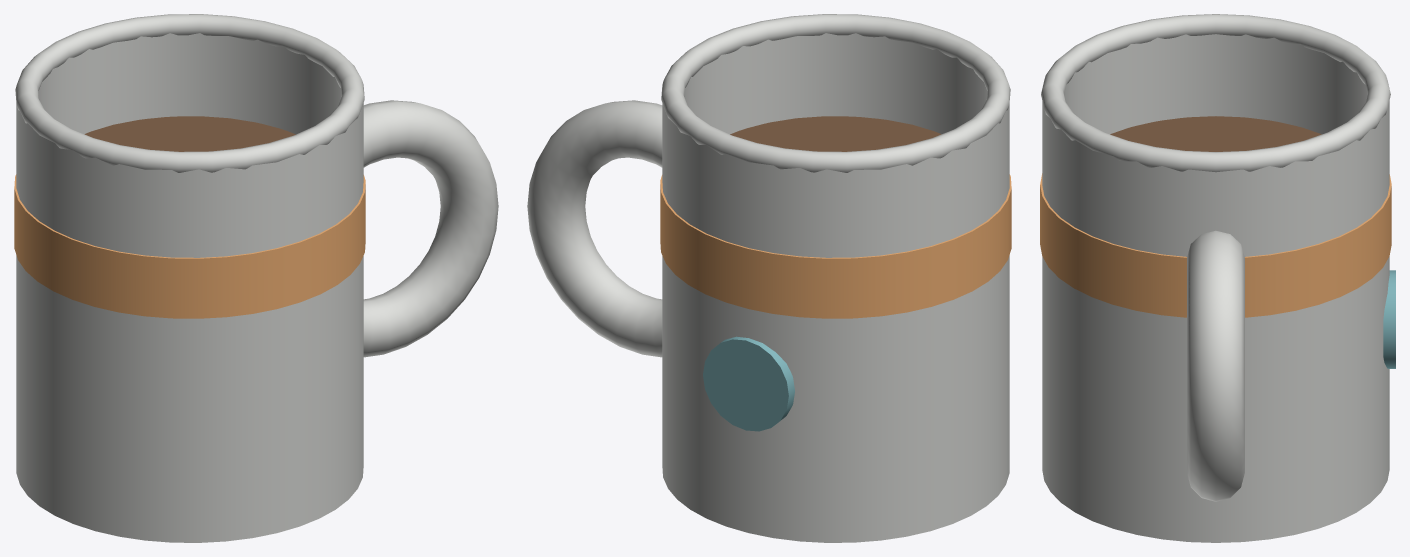
Rendered from crew_mug.glb.
3 renders of one model, left to right at view 1: azimuth 30°, elevation 25°; view 2: azimuth 150°, elevation 25°; view 3: azimuth 270°, elevation 25°, orthographic.
Visible parts, largest first — view 1: mug_body_white_painted, mug_inside_white_painted, mug_band_orange, mug_handle_white_painted, mug_rim_white_painted, coffee_coffee, mug_base_white_painted; view 2: mug_body_white_painted, mug_inside_white_painted, mug_band_orange, mug_handle_white_painted, mug_rim_white_painted, mug_patch_teal, coffee_coffee, mug_base_white_painted; view 3: mug_body_white_painted, mug_inside_white_painted, mug_band_orange, mug_rim_white_painted, mug_handle_white_painted, coffee_coffee, mug_base_white_painted, mug_patch_teal.
Boxes of the visible parts, <box> form: mug_body_white_painted: <box>16,104,363,542</box>; mug_inside_white_painted: <box>38,33,341,134</box>; mug_band_orange: <box>14,174,365,318</box>; mug_handle_white_painted: <box>363,100,498,357</box>; mug_rim_white_painted: <box>15,14,364,172</box>; coffee_coffee: <box>84,116,295,151</box>; mug_base_white_painted: <box>19,453,363,535</box>; mug_body_white_painted: <box>662,104,1009,542</box>; mug_inside_white_painted: <box>684,33,987,134</box>; mug_band_orange: <box>660,174,1011,318</box>; mug_handle_white_painted: <box>527,100,662,357</box>; mug_rim_white_painted: <box>661,14,1010,172</box>; mug_patch_teal: <box>703,336,794,431</box>; coffee_coffee: <box>730,116,941,151</box>; mug_base_white_painted: <box>662,453,1007,535</box>; mug_body_white_painted: <box>1042,101,1389,542</box>; mug_inside_white_painted: <box>1064,34,1367,134</box>; mug_band_orange: <box>1040,173,1391,317</box>; mug_rim_white_painted: <box>1041,14,1390,172</box>; mug_handle_white_painted: <box>1187,230,1244,501</box>; coffee_coffee: <box>1110,116,1321,151</box>; mug_base_white_painted: <box>1042,458,1389,531</box>; mug_patch_teal: <box>1383,270,1395,368</box>.
Bounding box in the file's own units: 0.1275 × 0.1028 × 0.086.
